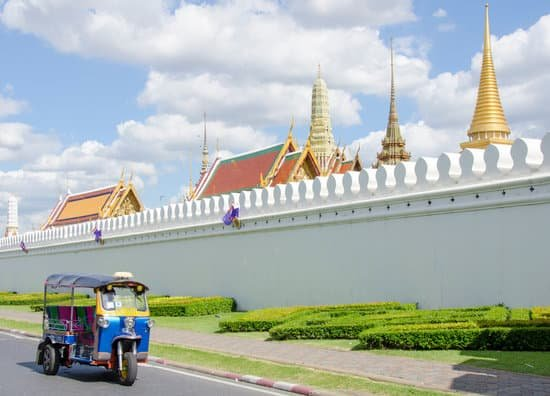threewheel: (36, 271, 155, 388)
